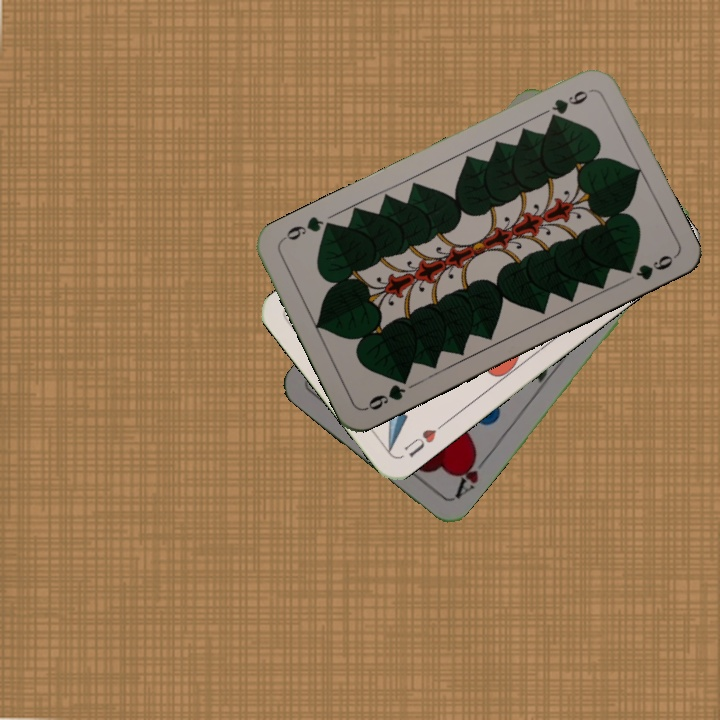G9: (361, 371, 412, 413), (545, 86, 591, 124)
HA: (450, 447, 491, 502)
HU: (399, 418, 448, 460)
